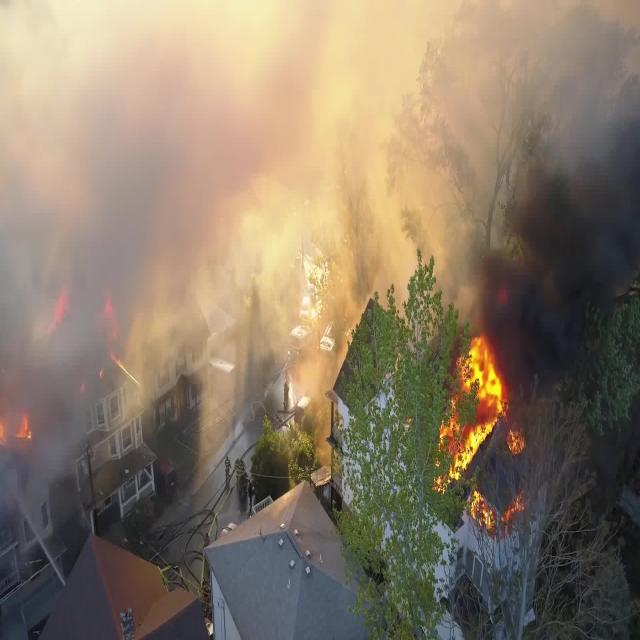Fire: (435, 338, 536, 539)
Smoke: (6, 0, 446, 590)
